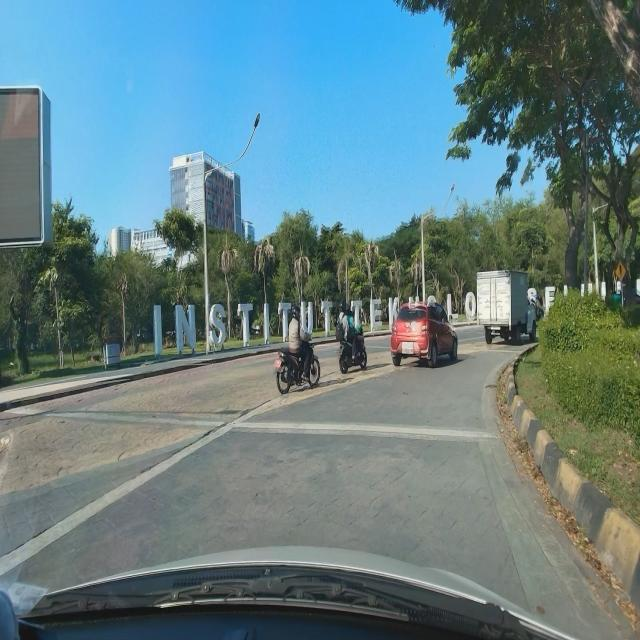car: (390, 300, 460, 370)
truck: (476, 268, 538, 346)
